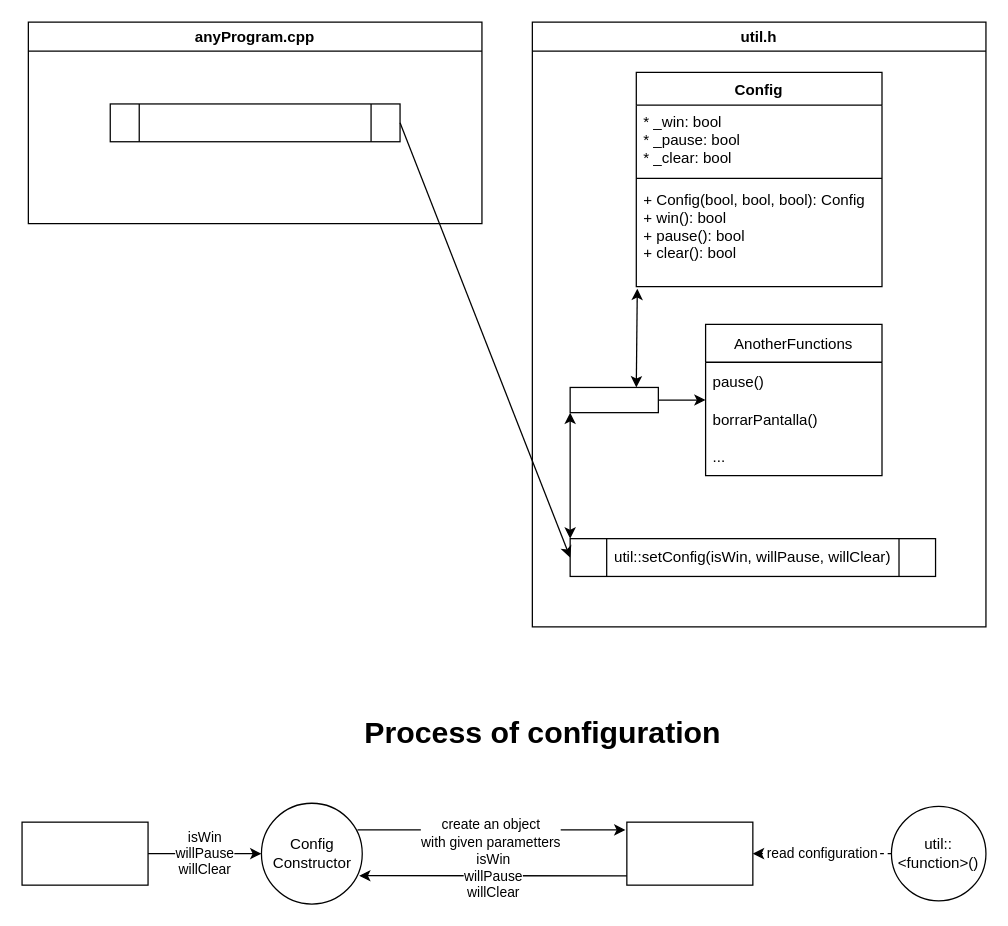
The diagram is 1008 pixels wide and 926 high, and some of its shapes have lost their labels. The centre of each missing label's shape, as x and y in pixels:
CONF: point (613, 399)
util::CONF: point (689, 853)
util::setConfig(): point (84, 853)
util::setConfig(true, true, true);: point (254, 122)
